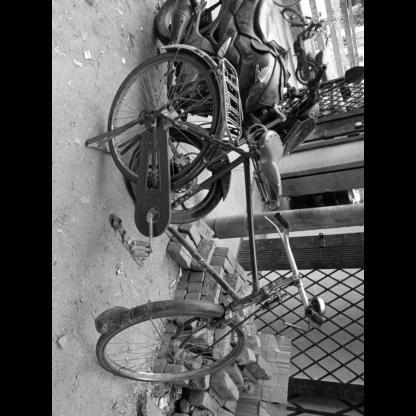Bicycle: (75, 5, 331, 314)
